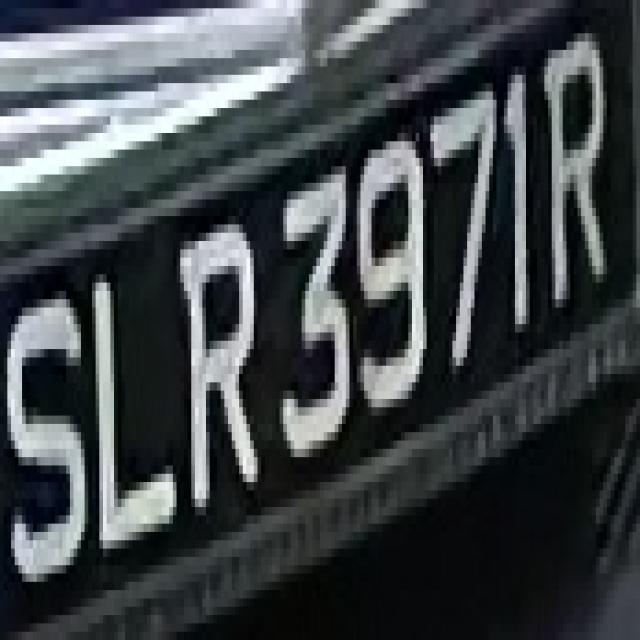1: (500, 42, 537, 374)
3: (265, 158, 364, 482)
7: (416, 67, 500, 390)
9: (346, 142, 438, 432)
L: (81, 250, 188, 574)
R: (180, 208, 265, 532), (537, 25, 622, 332)
S: (0, 258, 96, 615)
